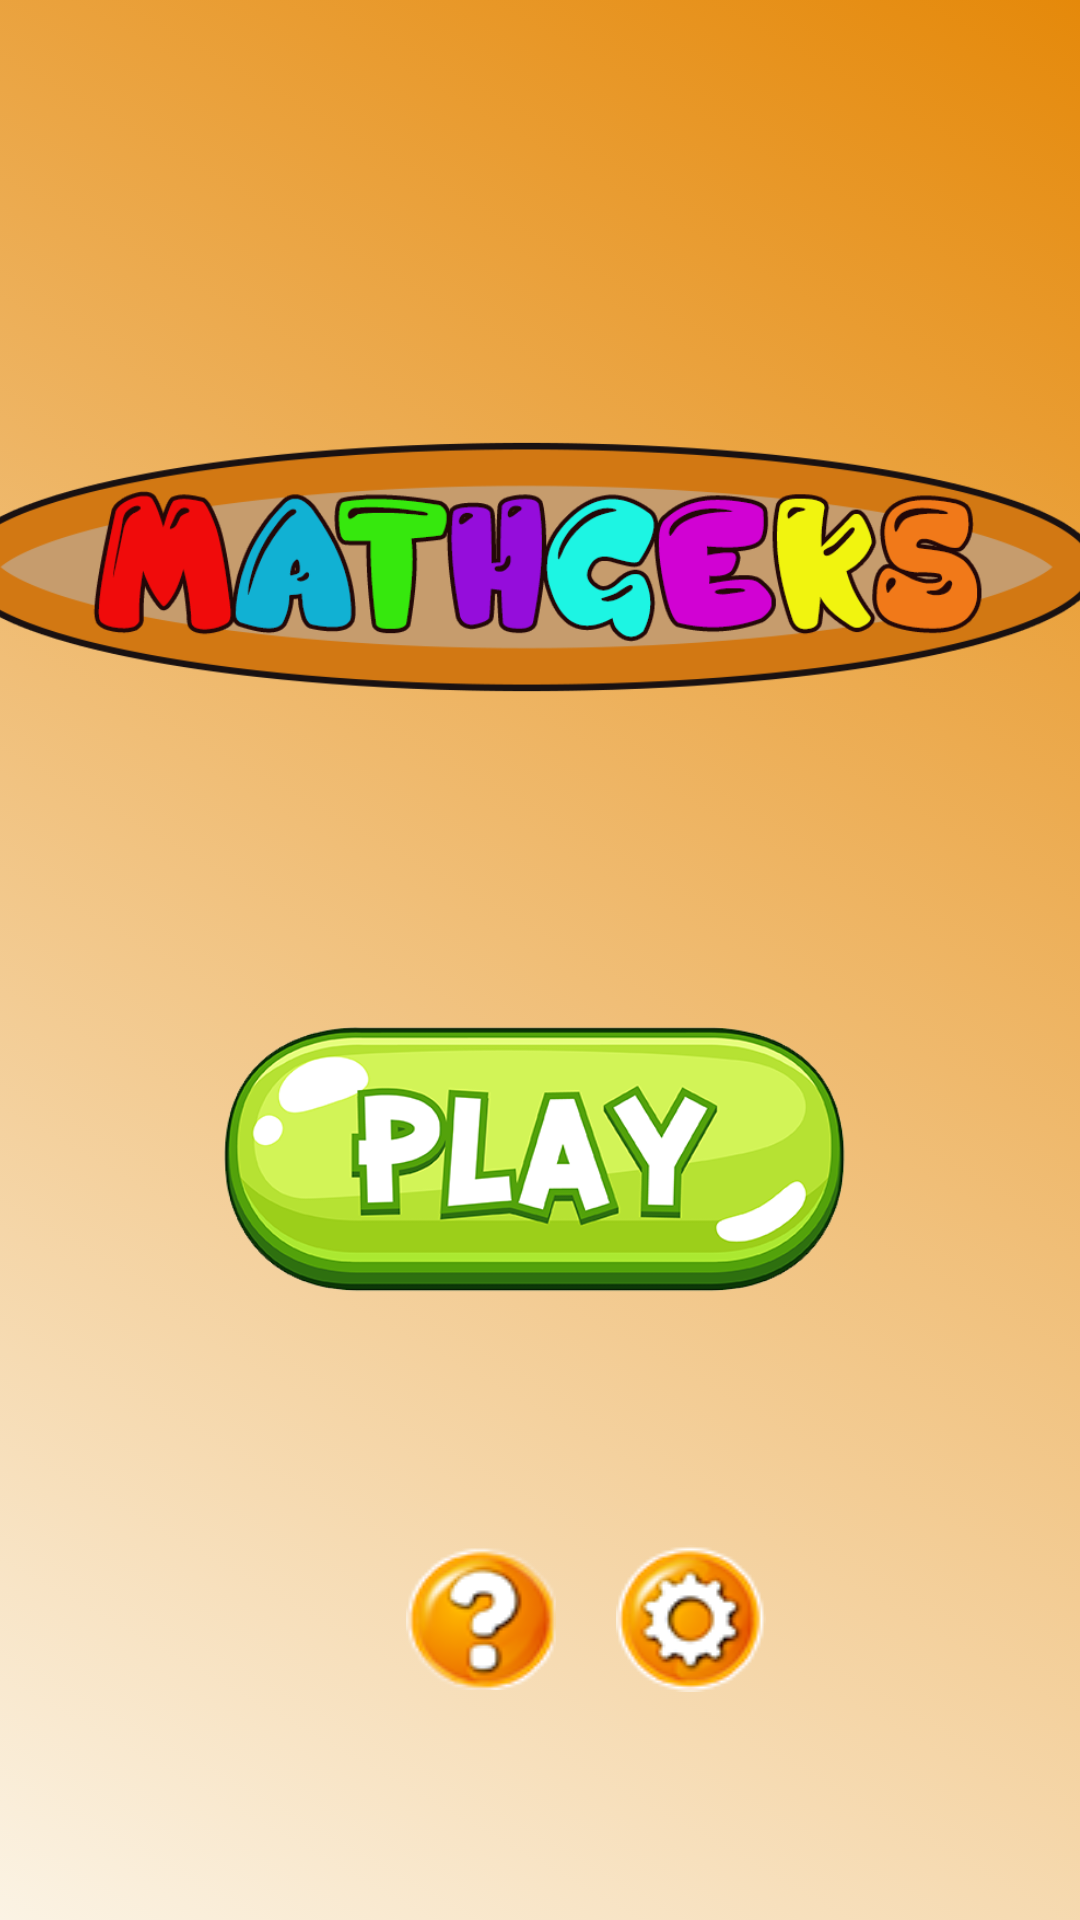

Icons on this 1080×1920 Android screen, each with its box as bbox=[x1, y1, x2, y2]:
btoninfo: bbox=[406, 1549, 554, 1690]
settingicn: bbox=[616, 1547, 764, 1692]
